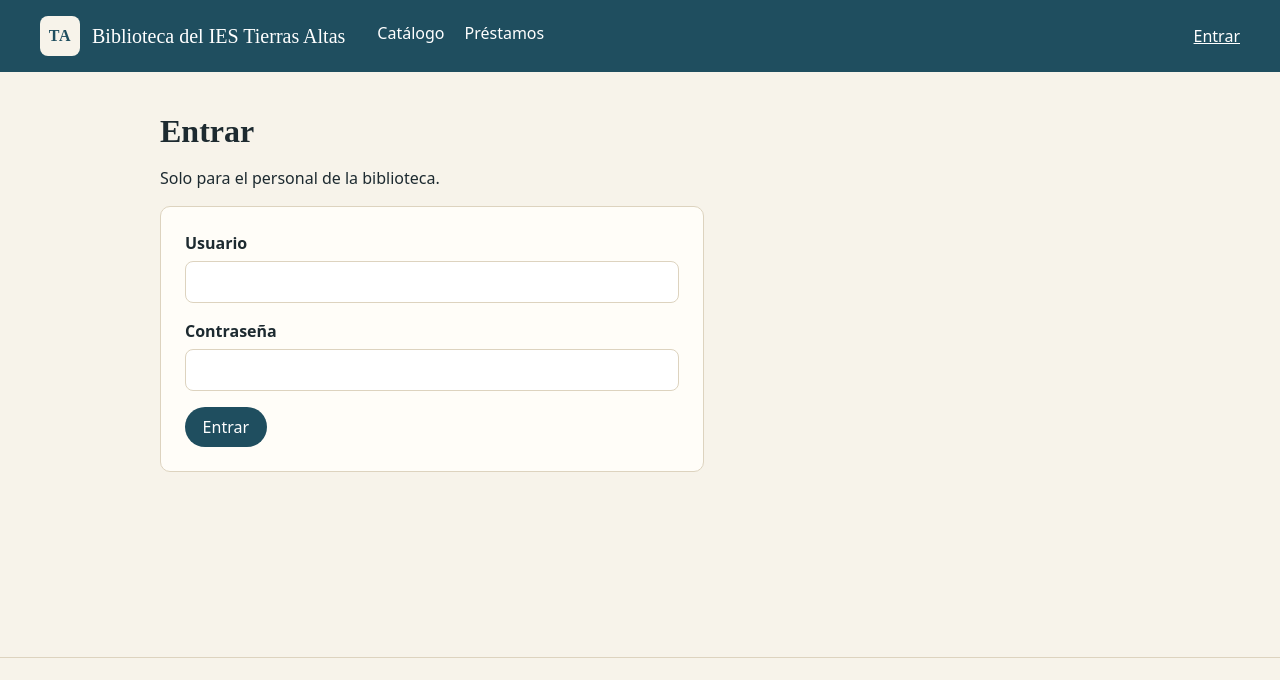
La sesión › sin sesión, los préstamos llevan a entrar, y después se vuelve
This screenshot has width=1280, height=680.
Type "marta" into the field labelled "Usuario". click: (432, 282)
box: [185, 261, 679, 303]
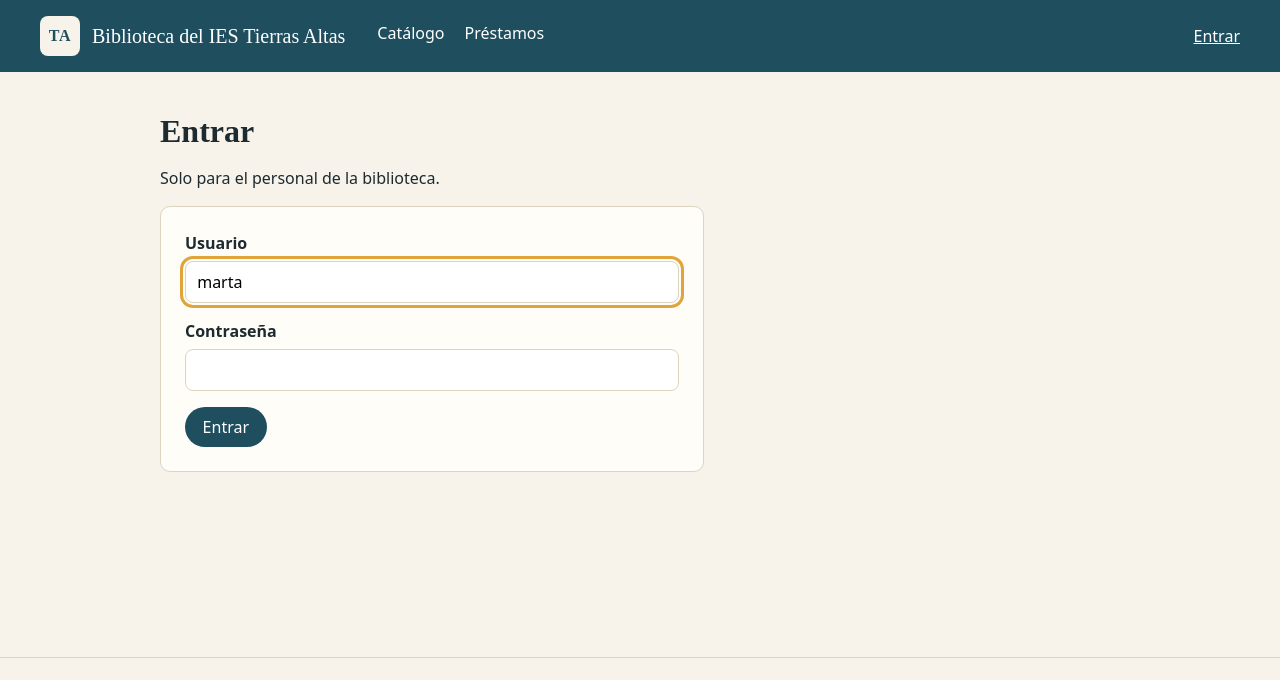
Type "tierrasaltas" into the password field labelled "Contraseña". click: (432, 370)
box: [185, 349, 679, 391]
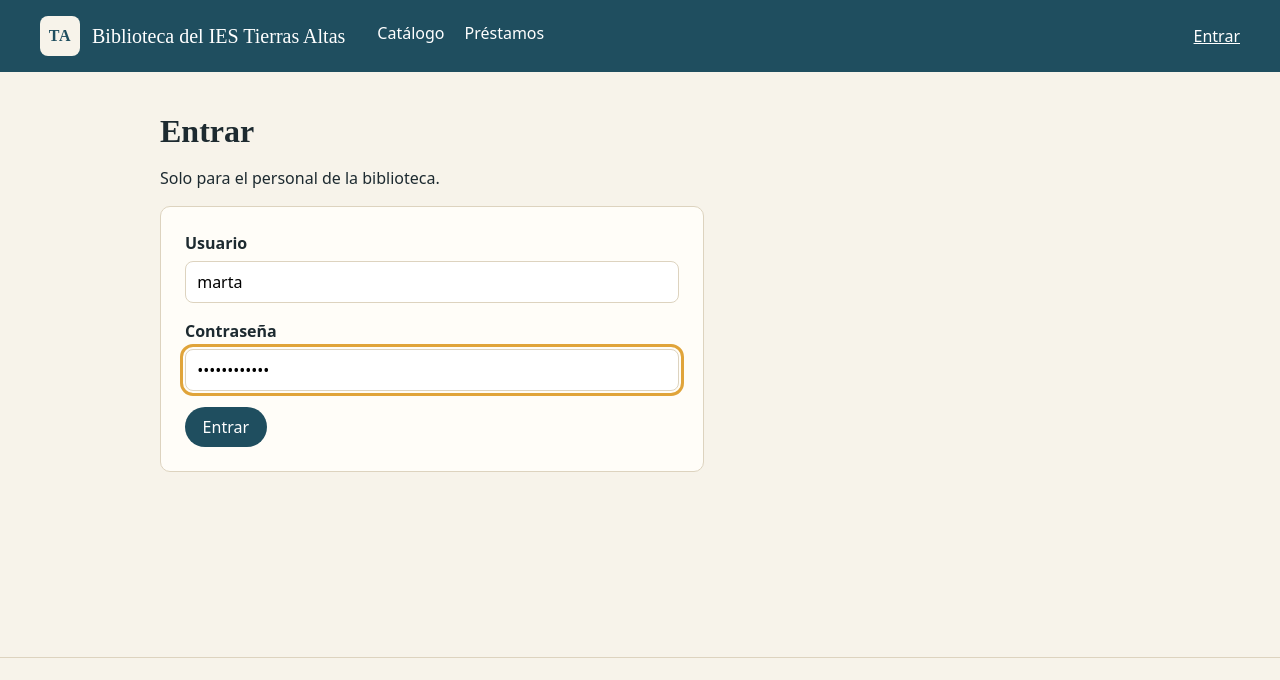
Click the button "Entrar". click: (226, 427)
box: [185, 407, 267, 447]
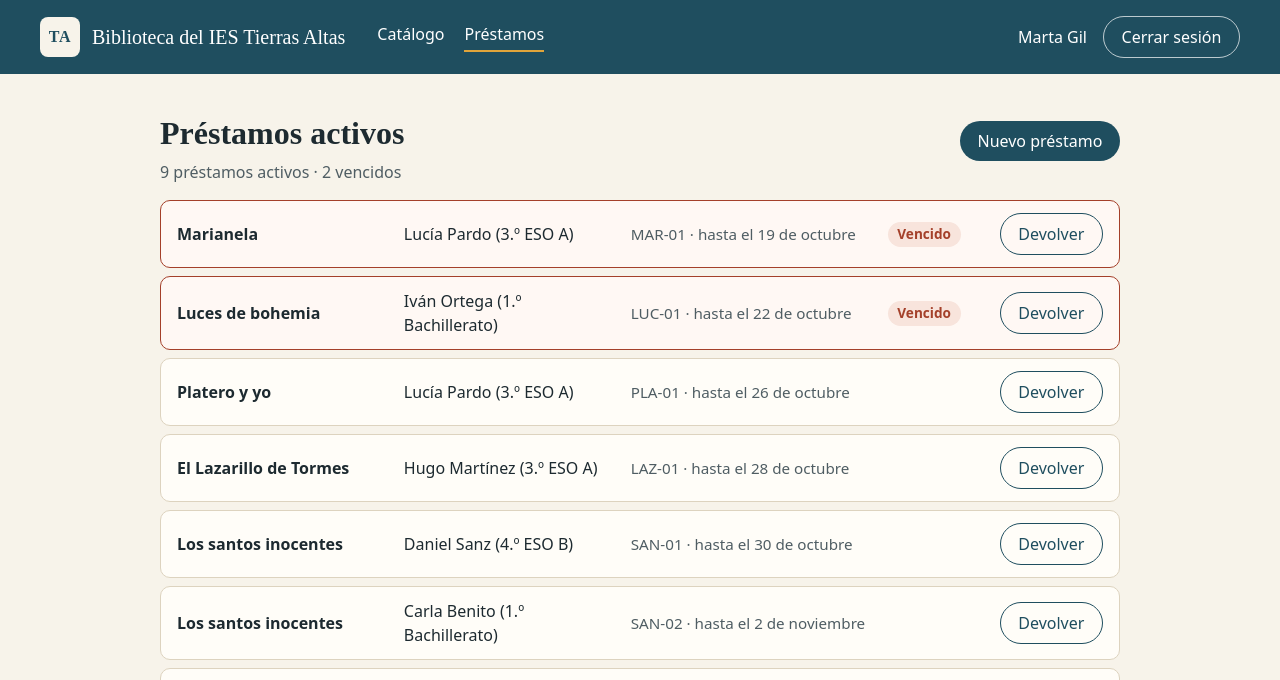
Check: the heading "Préstamos activos" is shown, box [160, 114, 404, 152]
Check: the text "Marta Gil" is shown, box [1018, 25, 1087, 49]
